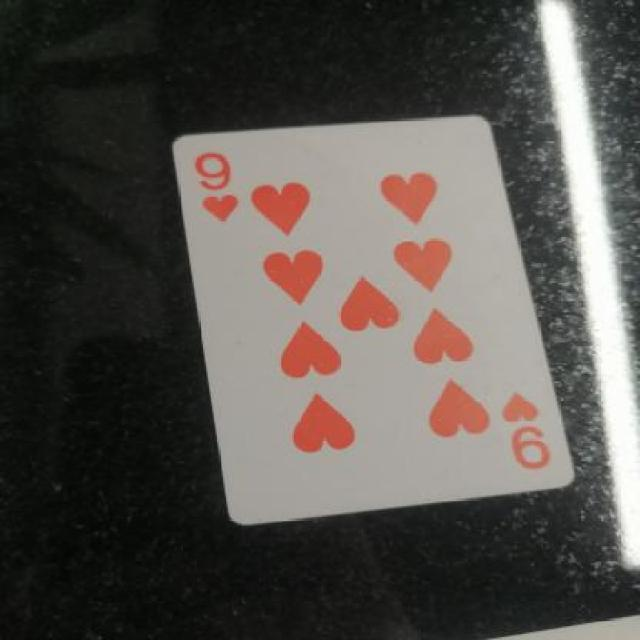9H: (484, 386, 584, 479), (188, 126, 254, 243)
